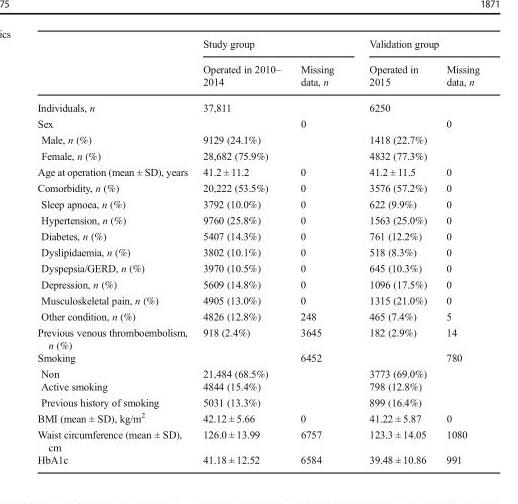table: (36, 37, 479, 465)
table column: (36, 37, 194, 465), (194, 37, 289, 465), (350, 37, 435, 465), (289, 37, 350, 465), (435, 37, 479, 465)
table column header: (36, 37, 479, 93)
table row: (36, 55, 479, 93), (36, 324, 479, 350), (36, 426, 479, 452), (36, 93, 479, 115), (36, 37, 479, 55), (36, 146, 479, 163), (36, 307, 479, 324), (36, 409, 479, 426), (36, 130, 479, 146), (36, 163, 479, 179), (36, 179, 479, 195), (36, 195, 479, 211), (36, 211, 479, 227), (36, 227, 479, 243), (36, 243, 479, 259), (36, 259, 479, 275), (36, 275, 479, 291), (36, 291, 479, 307), (36, 393, 479, 409), (36, 115, 479, 130), (36, 350, 479, 365), (36, 365, 479, 379), (36, 379, 479, 393), (36, 452, 479, 465)
table spanning cell: (194, 37, 350, 55), (350, 37, 479, 55)
